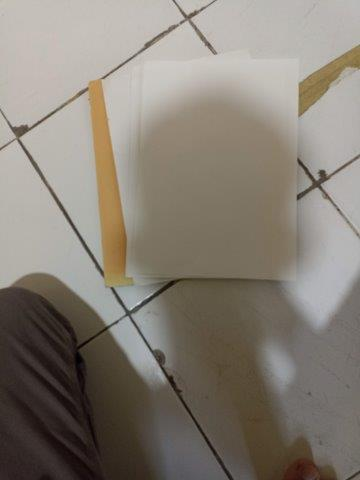kertas: (89, 49, 299, 288)
